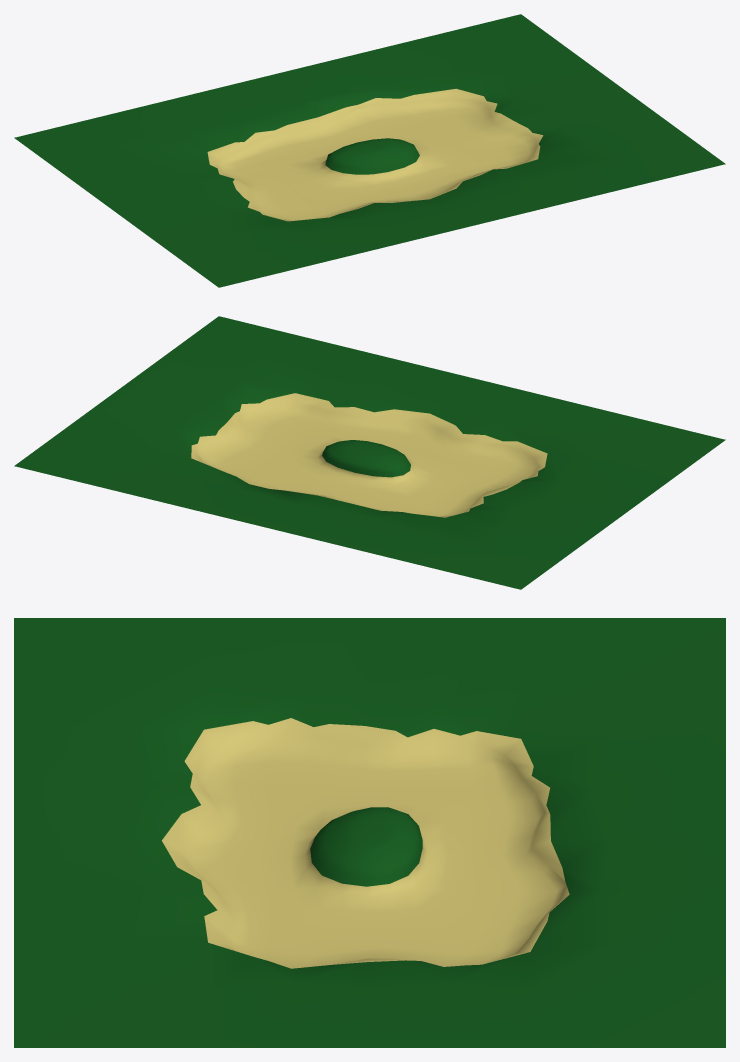
Rendered from Scenery.FBX.
The picture shows the model from 3 angles, top to bottom: view 1: azimuth 30°, elevation 25°; view 2: azimuth 150°, elevation 25°; view 3: azimuth 270°, elevation 25°; orthographic projection. The views are drawn at different scales.
Visible parts, largest first — view 1: scenary; view 2: scenary; view 3: scenary.
Boxes of the visible parts, x1,y1,x2,y2 form: scenary: [14, 14, 725, 287]; scenary: [14, 316, 725, 589]; scenary: [14, 618, 725, 1047].
Size of the model in its own units: 50 by 1.66 by 35.
